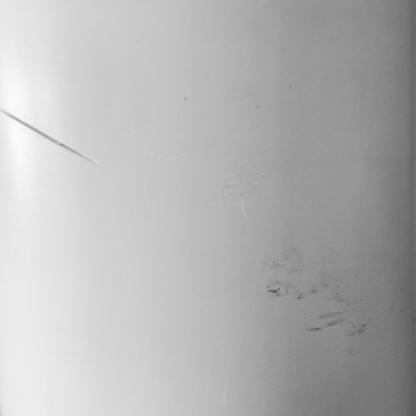sunshang: (1, 100, 101, 169)
